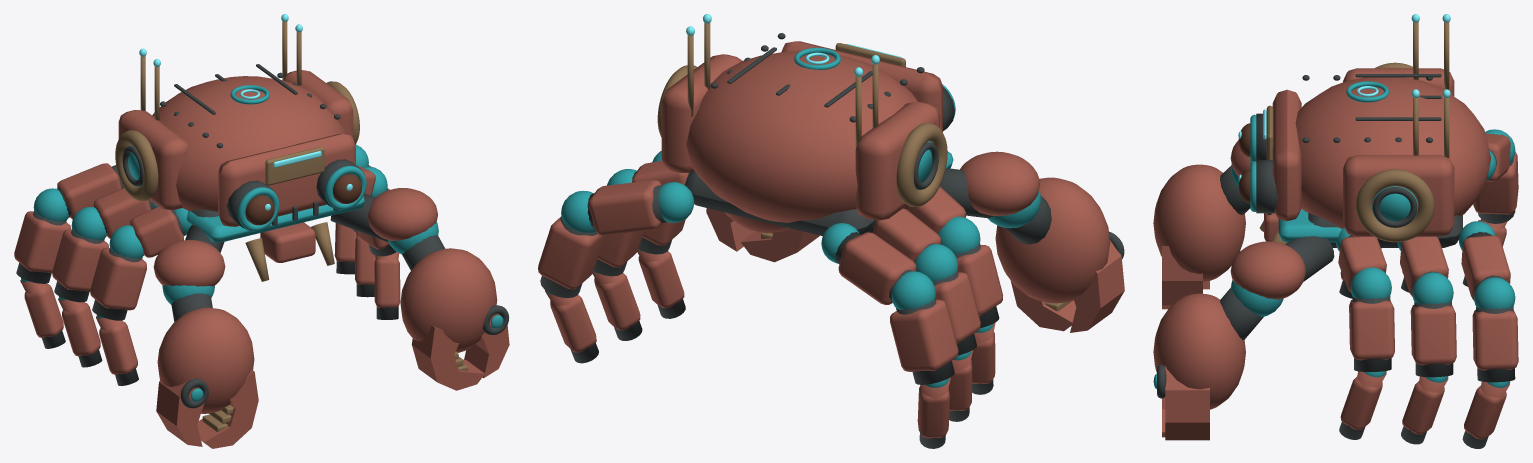
Rendered from typical_creature_robot_crab.glb.
3 views of the same model, side by side, from view 1: azimuth 30°, elevation 25°; view 2: azimuth 150°, elevation 25°; view 3: azimuth 270°, elevation 25° (orthographic). The views are drawn at different scales.
Parts seen in each view (by area): view 1: main rounded rectangular carapace, large claw palm.001, large claw palm, face shield, side equipment fairing, claw shoulder armor.001, claw shoulder armor, red leg armor.001, inner pincer hook.001, red leg armor.004, red leg armor.007, inner pincer hook (+36 smaller); view 2: main rounded rectangular carapace, large claw palm, side equipment fairing, claw shoulder armor, red leg armor.007, side equipment fairing.001, red leg armor.006, red leg armor.015, red leg armor.016, side reactor ring, outer pincer hook, underside dark chassis (+31 smaller); view 3: main rounded rectangular carapace, large claw palm, large claw palm.001, side equipment fairing.001, face shield, claw shoulder armor.001, side reactor ring.001, red leg armor.010, outer pincer hook.001, red leg armor.013, red leg armor.016, red leg armor.015 (+31 smaller).
Boxes of the visible parts, box(x1,y1,x2,y2) form: main rounded rectangular carapace: box(152, 76, 344, 211); large claw palm.001: box(400, 248, 497, 352); large claw palm: box(157, 307, 254, 413); face shield: box(218, 134, 355, 226); side equipment fairing: box(118, 110, 188, 210); claw shoulder armor.001: box(368, 188, 437, 240); claw shoulder armor: box(153, 240, 225, 286); red leg armor.001: box(90, 248, 146, 310); inner pincer hook.001: box(411, 325, 484, 390); red leg armor.004: box(52, 229, 108, 291); red leg armor.007: box(14, 211, 71, 273); inner pincer hook: box(197, 369, 258, 448); main rounded rectangular carapace: box(686, 50, 917, 222); large claw palm: box(995, 177, 1110, 303); side equipment fairing: box(855, 101, 939, 220); claw shoulder armor: box(960, 151, 1040, 216); red leg armor.007: box(890, 299, 958, 371); side equipment fairing.001: box(661, 54, 742, 172); red leg armor.006: box(838, 232, 916, 304); red leg armor.015: box(588, 180, 662, 235); red leg armor.016: box(538, 217, 604, 289); side reactor ring: box(896, 123, 947, 206); outer pincer hook: box(1070, 240, 1124, 332); underside dark chassis: box(685, 170, 872, 236); main rounded rectangular carapace: box(1295, 77, 1491, 228); large claw palm: box(1153, 164, 1245, 281); large claw palm.001: box(1153, 293, 1245, 409); side equipment fairing.001: box(1343, 155, 1454, 236); face shield: box(1272, 89, 1301, 221); claw shoulder armor.001: box(1230, 241, 1305, 299); side reactor ring.001: box(1355, 169, 1434, 242); red leg armor.010: box(1349, 299, 1394, 360); outer pincer hook.001: box(1165, 365, 1209, 440); red leg armor.013: box(1410, 305, 1456, 365); red leg armor.016: box(1472, 310, 1518, 370); red leg armor.015: box(1461, 235, 1510, 300).
Bounding box in the file's own units: 0.9918 × 0.7986 × 0.8348.
